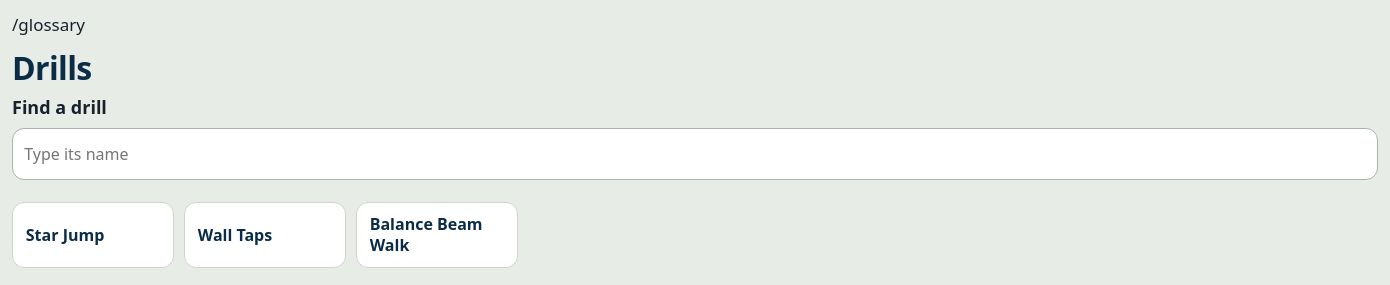
Test: the drill glossary › says so when nothing matches, rather than showing an empty page
Type "xyzzyquux" into the search field labelled "Find a drill" at {"x": 695, "y": 154}, box [12,128,1378,180]
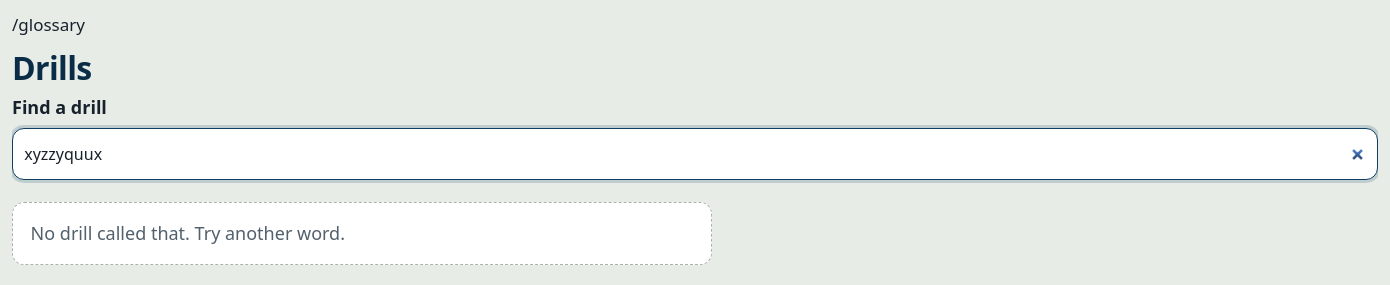
Expected: the text "No drill called that. Try another word." is shown, [12,202,712,265]
